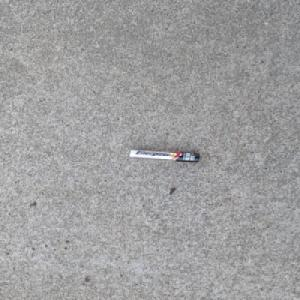Battery: (126, 148, 201, 164)
